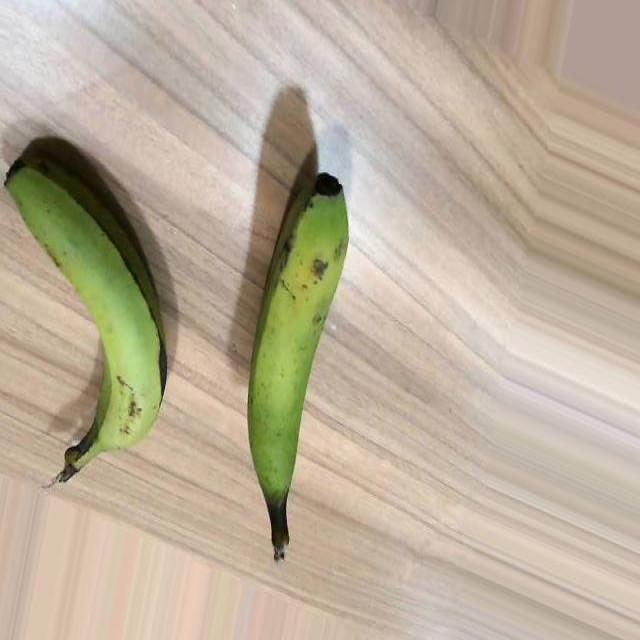Unripe: (6, 150, 169, 487), (247, 171, 350, 561)
